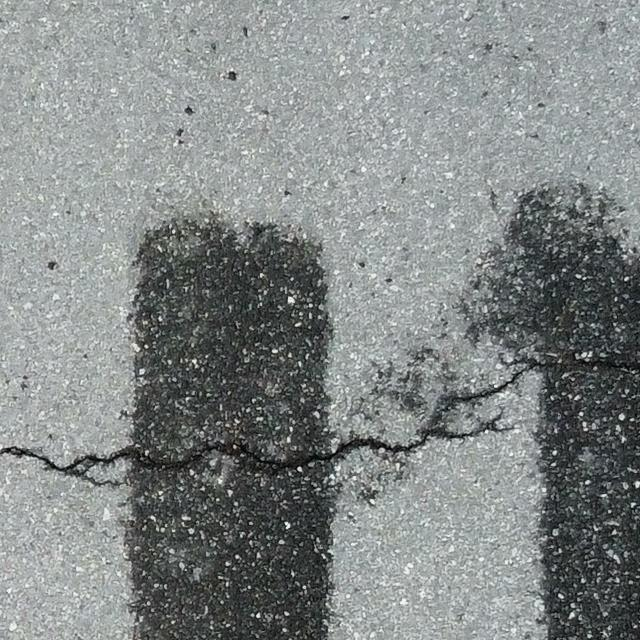TransverseCrack: (1, 360, 637, 489)
